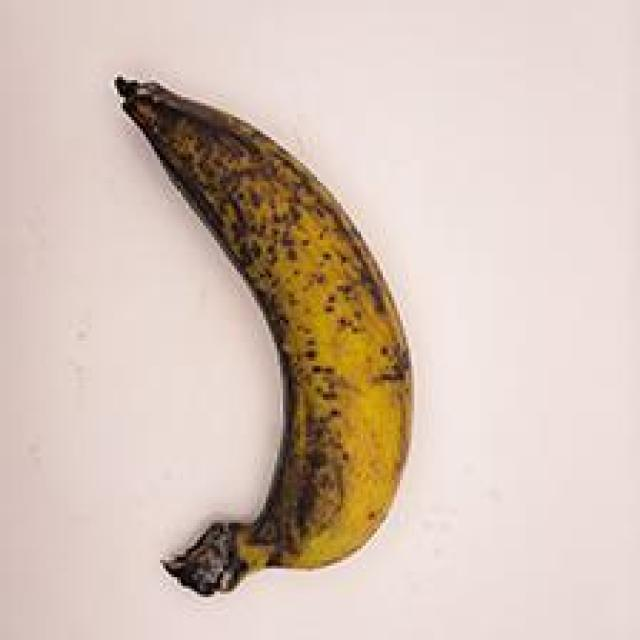Overripe: (69, 74, 434, 609)
